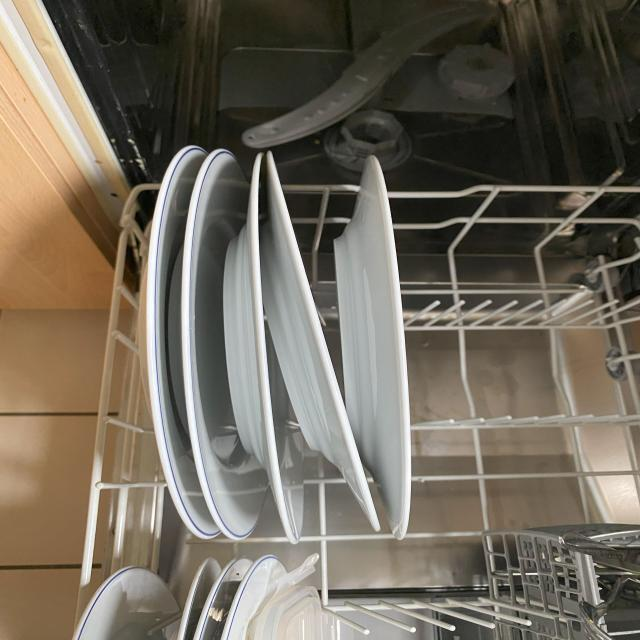empty_slot: (418, 204, 637, 509)
